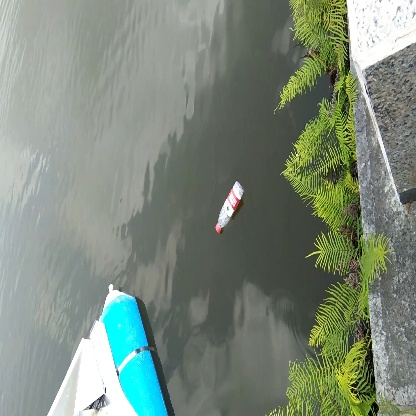bottle: (212, 180, 248, 235)
